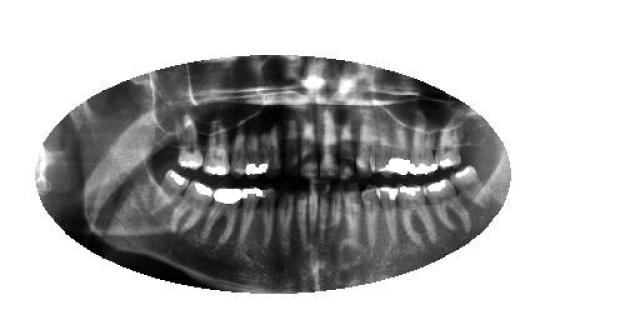Fillings: (423, 178, 472, 232), (398, 184, 438, 246), (170, 178, 214, 232), (201, 188, 240, 248), (405, 109, 437, 175), (239, 188, 265, 252), (205, 116, 230, 178), (176, 110, 202, 169), (156, 169, 190, 210), (436, 116, 462, 169), (388, 113, 410, 175), (451, 166, 485, 206), (379, 182, 399, 240), (246, 129, 265, 179)
